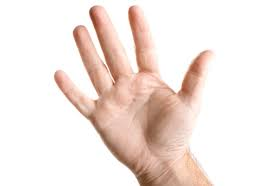open_hand: (37, 3, 236, 172)
